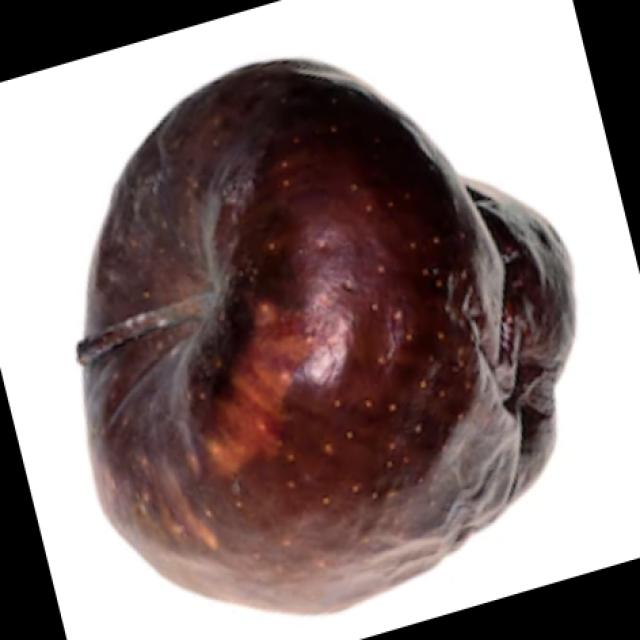organik: (28, 0, 581, 640)
